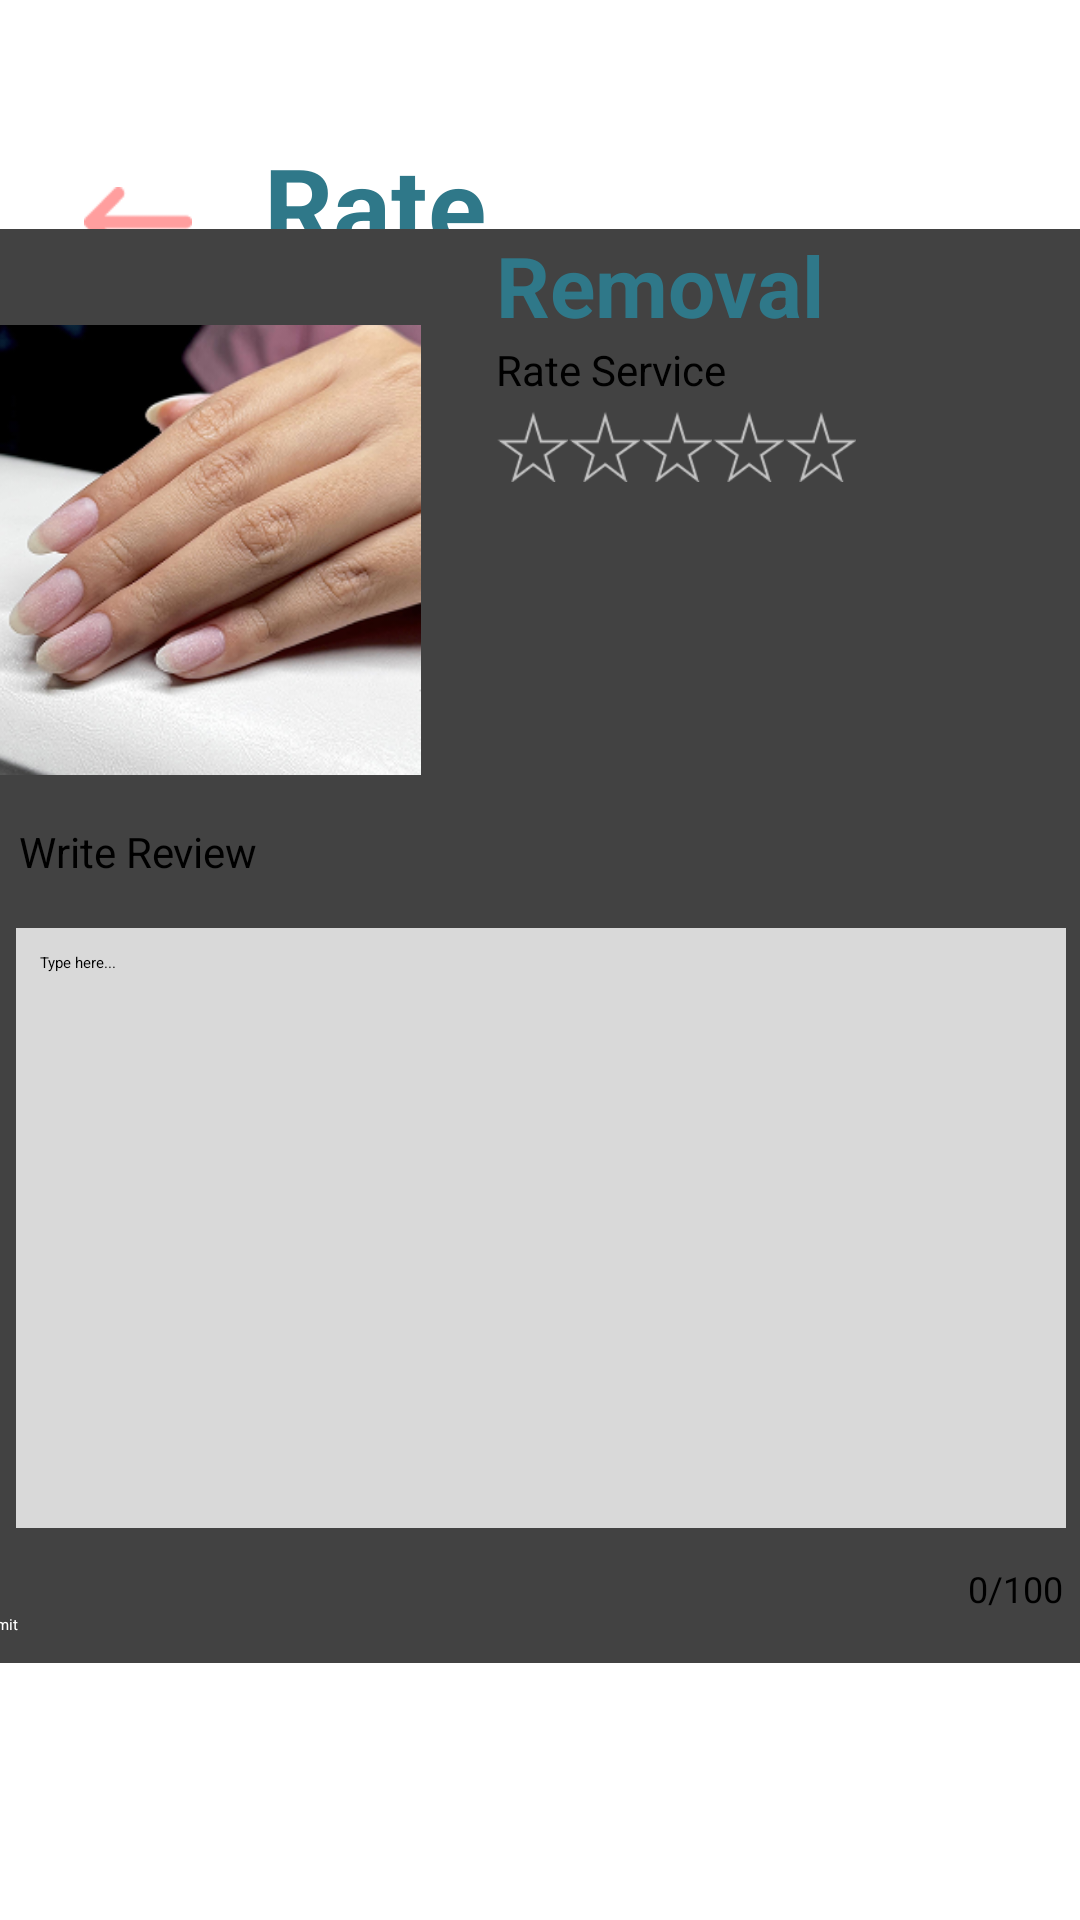

Where to tap for icons on this 1080 × 1920 app screen, as [x,y]:
backarrow: [138,222]
star empty: [533,447], [605,447], [677,447], [749,447], [821,447]
